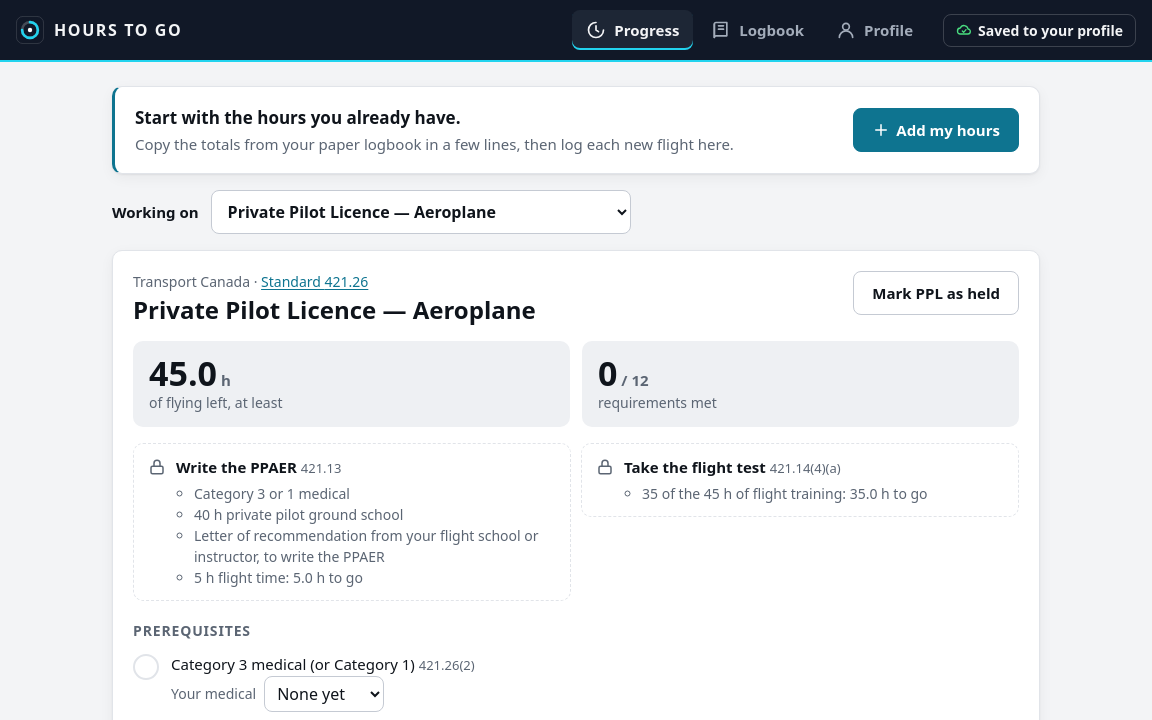
Test: signed in › sends feedback with the profile’s address to reply to, without asking for one
Click the button "Profile" at coordinates (874, 30), box 822,10 -> 927,50
(page scrolled)
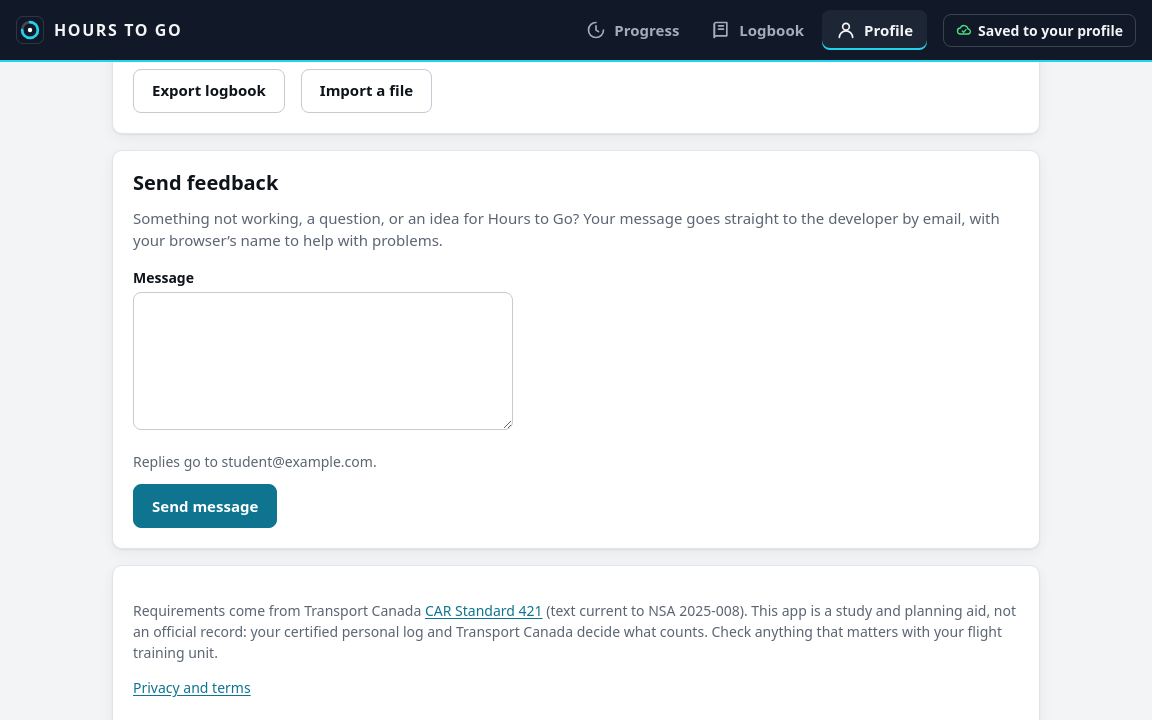
Check: the text "Replies go to student@example.com." is shown, box 133,452 -> 377,471
Type "Love it" into the text box labelled "Message" at coordinates (323, 360), box 133,292 -> 513,430
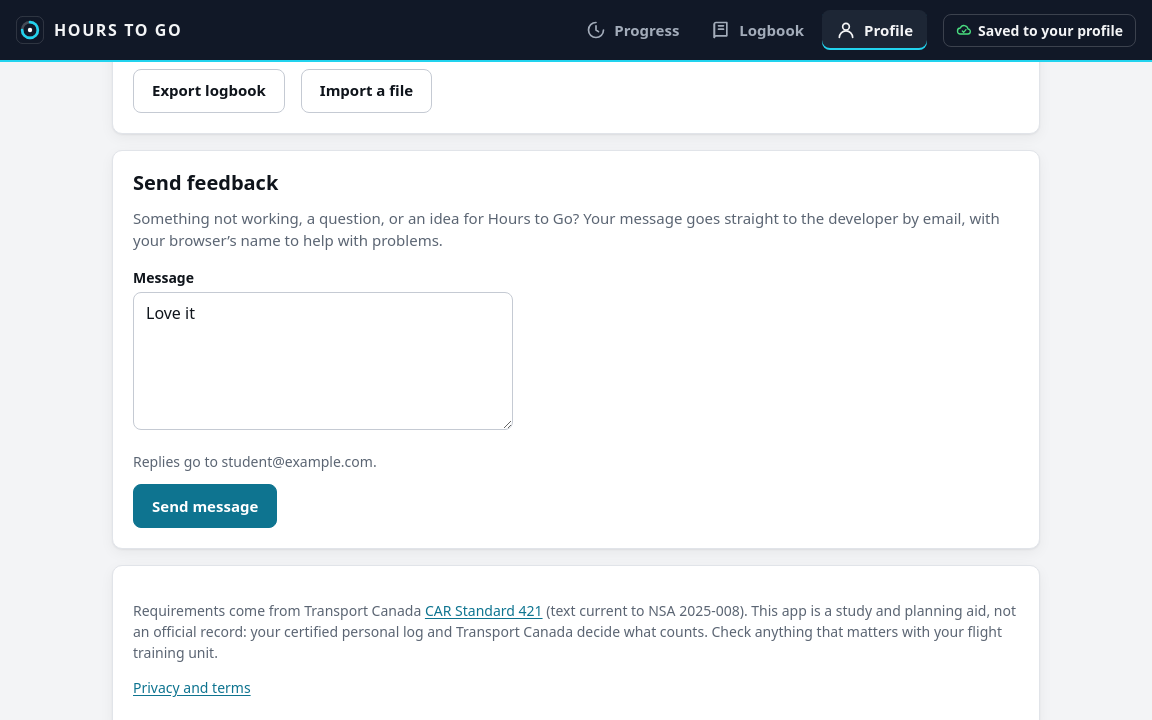
Click the button "Send message" at coordinates (205, 506), box 133,484 -> 277,528
(page scrolled)
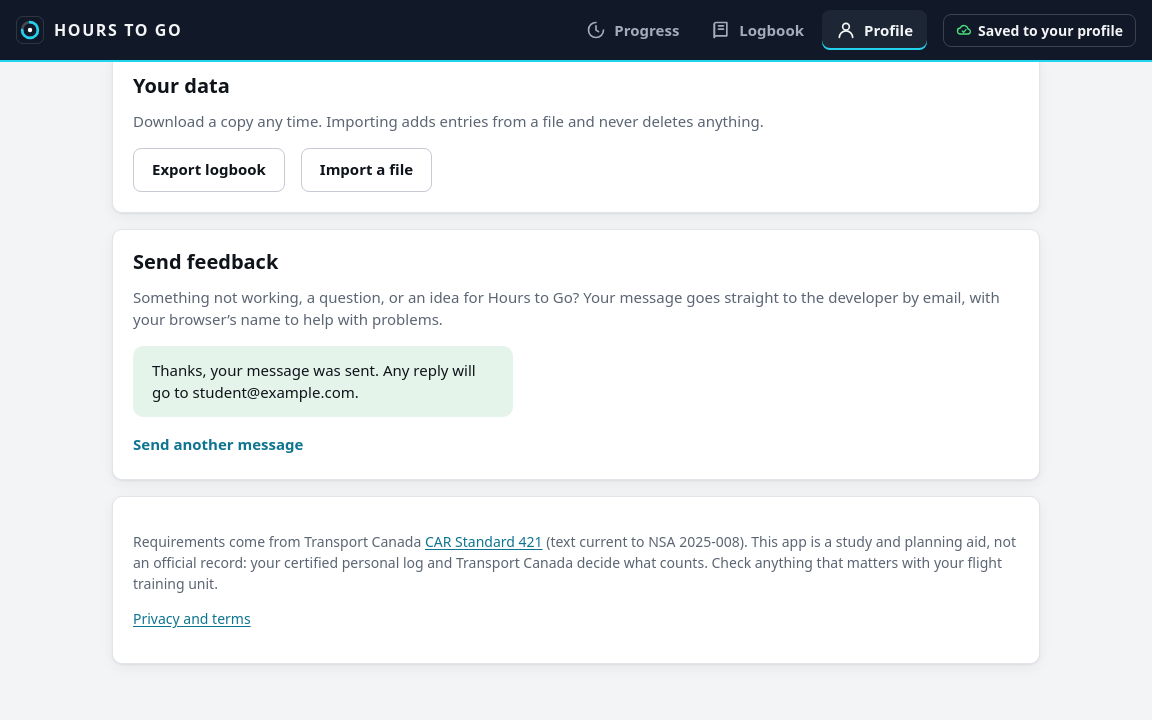
Check: the text "Thanks, your message was sent. Any reply will go to student@example.com." is shown, box 133,346 -> 513,416
